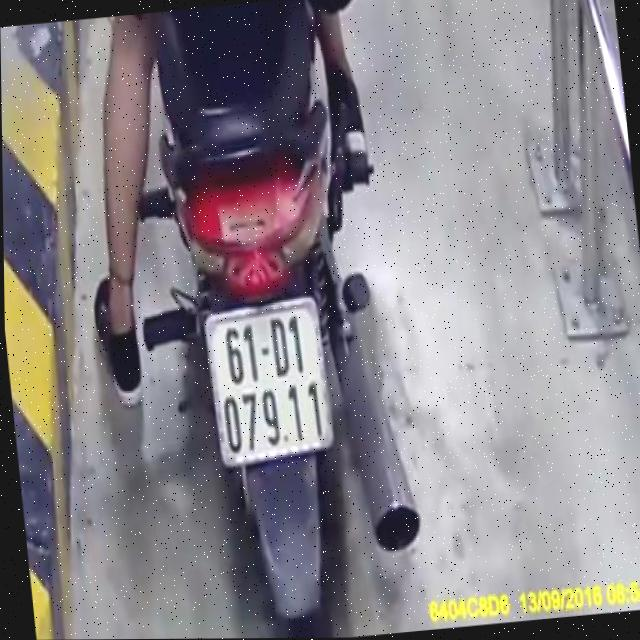motorcycle: (120, 0, 433, 639)
plate: (196, 294, 339, 469)
